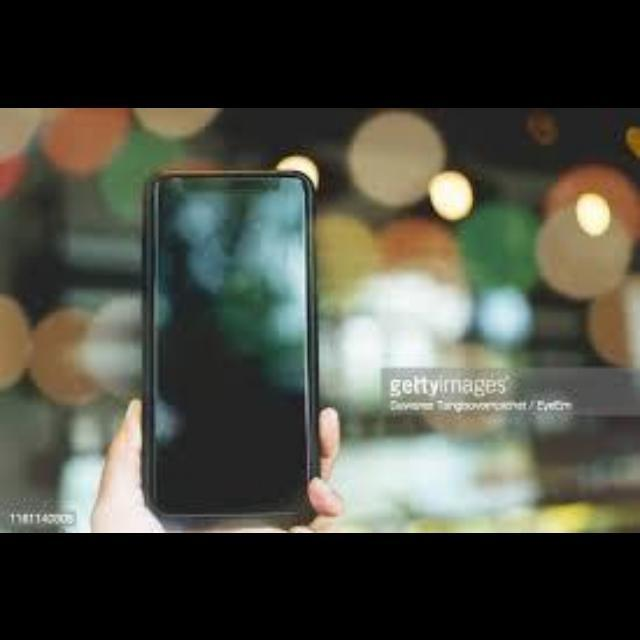phone: (139, 165, 319, 521)
